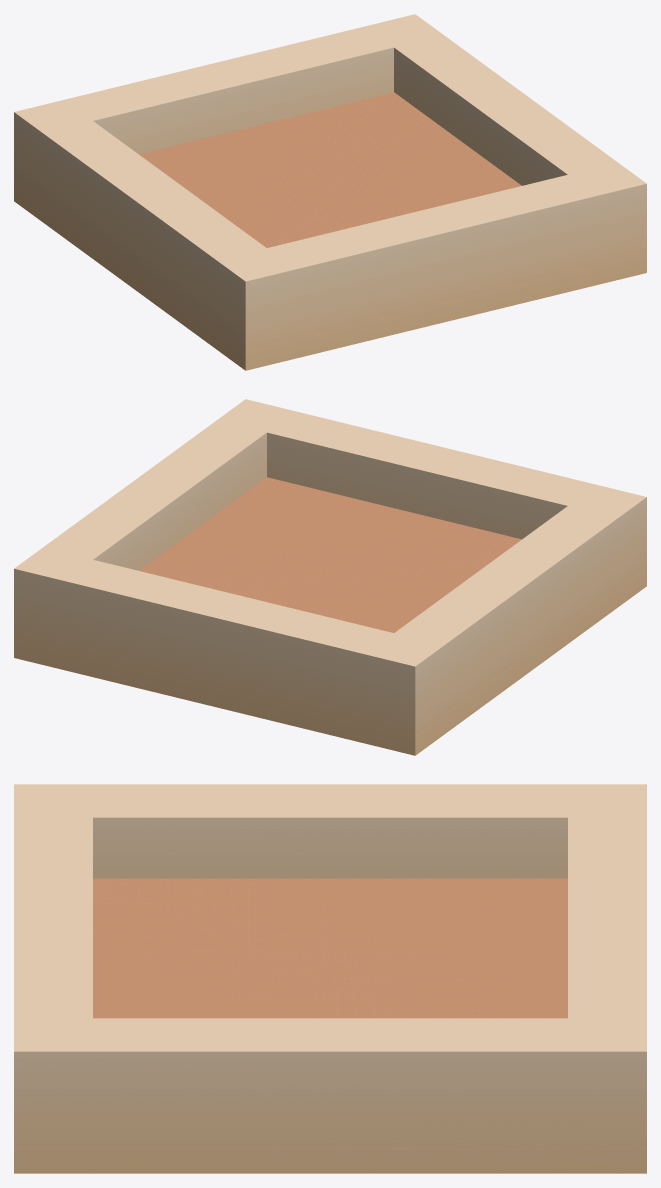
Rendered from kp_mdl_roof_flat_border_center.glb.
3 renders of one model, top to bottom at view 1: azimuth 30°, elevation 25°; view 2: azimuth 150°, elevation 25°; view 3: azimuth 270°, elevation 25°, orthographic. The views are drawn at different scales.
Visible parts, largest first — view 1: roof-flat-border-center; view 2: roof-flat-border-center; view 3: roof-flat-border-center.
Part boxes in pixels (left/top/right/bottom): roof-flat-border-center: left=14, top=14, right=646, bottom=370; roof-flat-border-center: left=14, top=399, right=646, bottom=755; roof-flat-border-center: left=14, top=784, right=646, bottom=1173.
Bounding box in the file's own units: 1 × 0.2125 × 1.
1 material, 1 textured.
